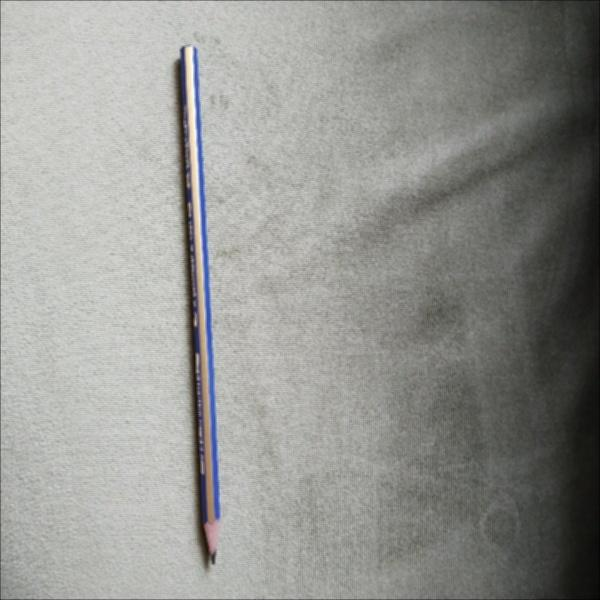pencil: (174, 40, 224, 569)
